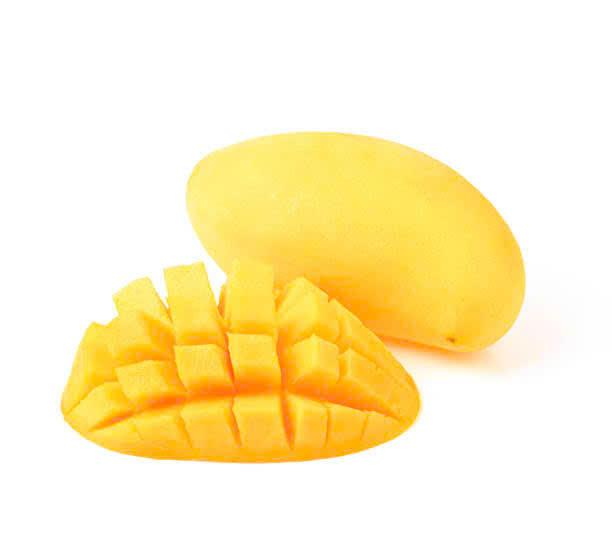mango: (169, 123, 531, 357), (43, 266, 420, 462)
